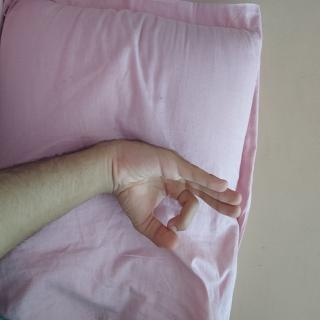Space: (100, 98, 192, 310)
